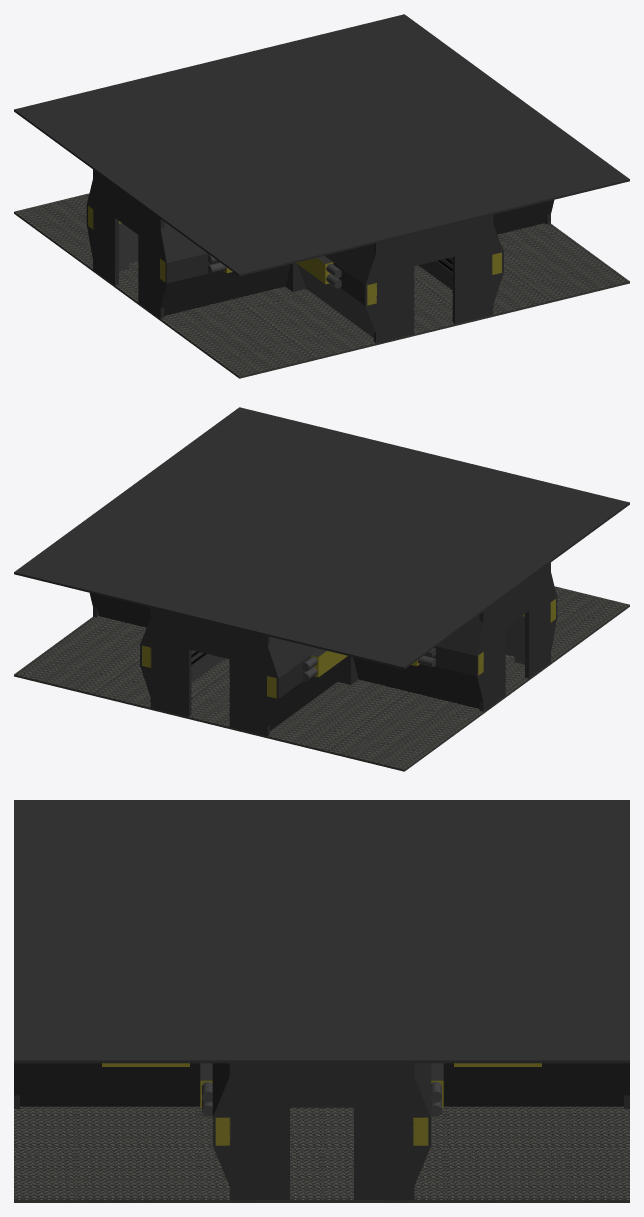
The model's file is New4Ways1.fbx.
3 views of the same model, one above another, from view 1: azimuth 30°, elevation 25°; view 2: azimuth 150°, elevation 25°; view 3: azimuth 270°, elevation 25° (orthographic). The views are drawn at different scales.
Visible parts, largest first — view 1: Cube.004, Cube, Cube.009, Cube.002, Cube.006, Cube.005, Cube.007, Cube.003; view 2: Cube.004, Cube, Cube.008, Cube.003, Cube.005, Cube.006, Cube.007, Cube.002; view 3: Cube.004, Cube, Cube.001, Cube.007, Cube.003, Cube.002.
Boxes of the visible parts, x1,y1,x2,y2 form: Cube.004: (14, 14, 629, 276); Cube: (14, 193, 629, 378); Cube.009: (374, 215, 493, 344); Cube.002: (151, 200, 554, 317); Cube.006: (296, 238, 391, 342); Cube.005: (93, 169, 164, 318); Cube.007: (419, 215, 503, 318); Cube.003: (86, 170, 138, 275); Cube.004: (14, 407, 629, 669); Cube: (14, 586, 629, 771); Cube.008: (150, 607, 269, 736); Cube.003: (89, 593, 492, 710); Cube.005: (479, 562, 550, 711); Cube.006: (252, 632, 347, 735); Cube.007: (140, 608, 224, 711); Cube.002: (505, 564, 557, 668); Cube.004: (14, 800, 629, 1063); Cube: (14, 1106, 629, 1202); Cube.001: (229, 1062, 414, 1199); Cube.007: (14, 1063, 629, 1106); Cube.003: (390, 1062, 443, 1200); Cube.002: (200, 1063, 253, 1200).
Size of the model in its own units: 4000 by 1020 by 4000.
